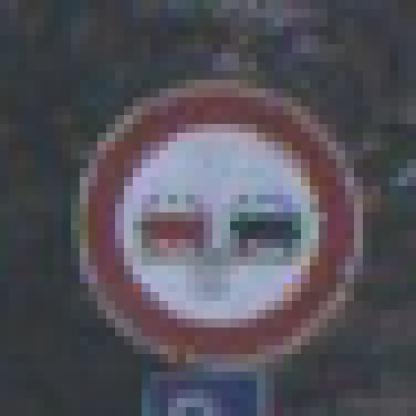No Overtaking: (54, 54, 373, 373)
